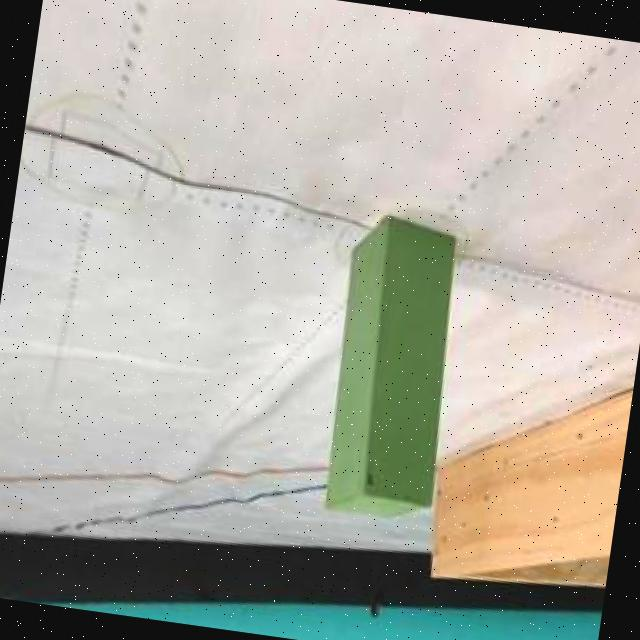greenbox: (311, 203, 475, 529)
